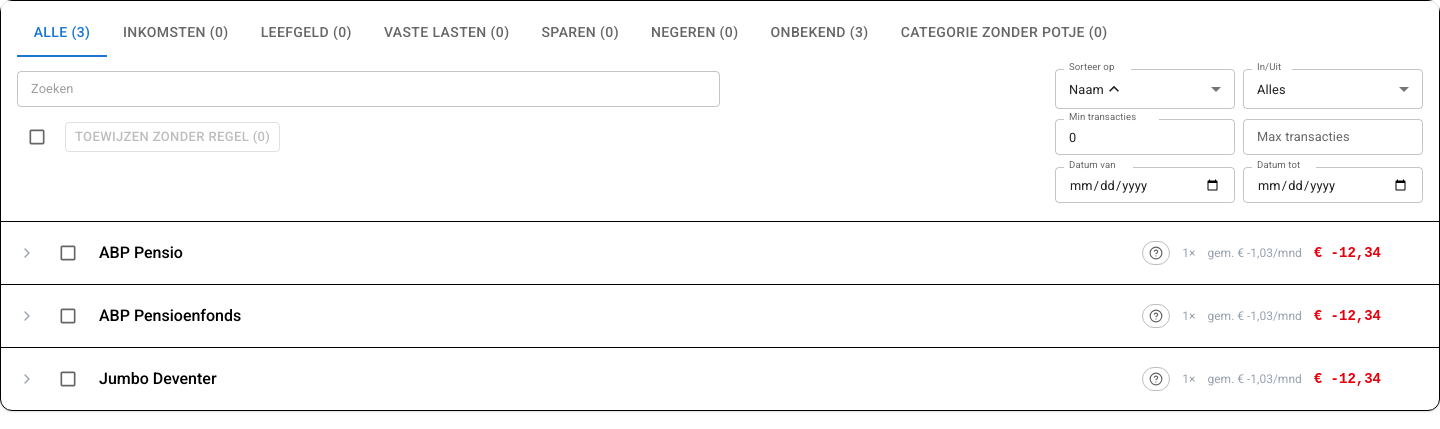
Test: CategoryBreakdown › supports substring search in tegenpartij names
Step 1. Type "pensioen" into the field labelled "Zoeken" → (368, 89), box [17, 71, 720, 107]
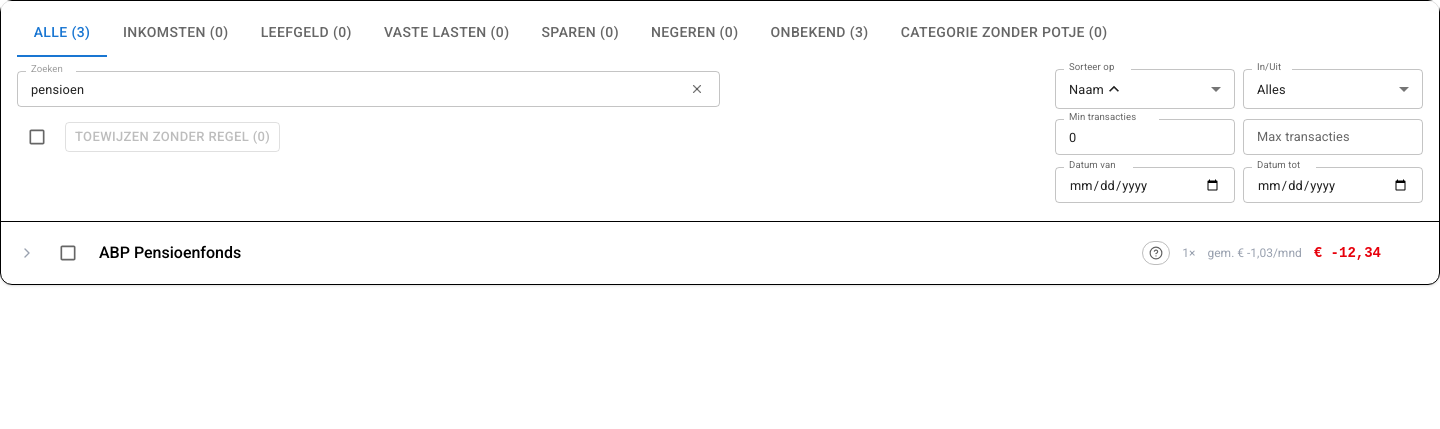
Expected: the text "ABP Pensioenfonds" is shown, [99, 243, 241, 262]
Expected: the button "Jumbo Deventer" is gone
